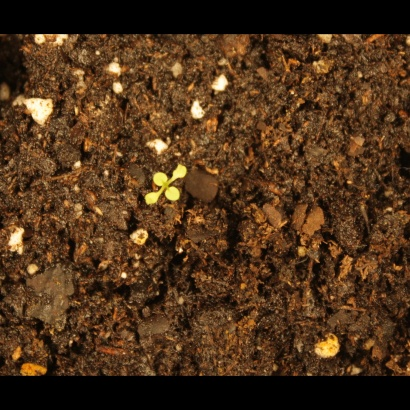leaf: (173, 159, 196, 182), (145, 165, 168, 188), (166, 187, 189, 210), (141, 189, 164, 212)
